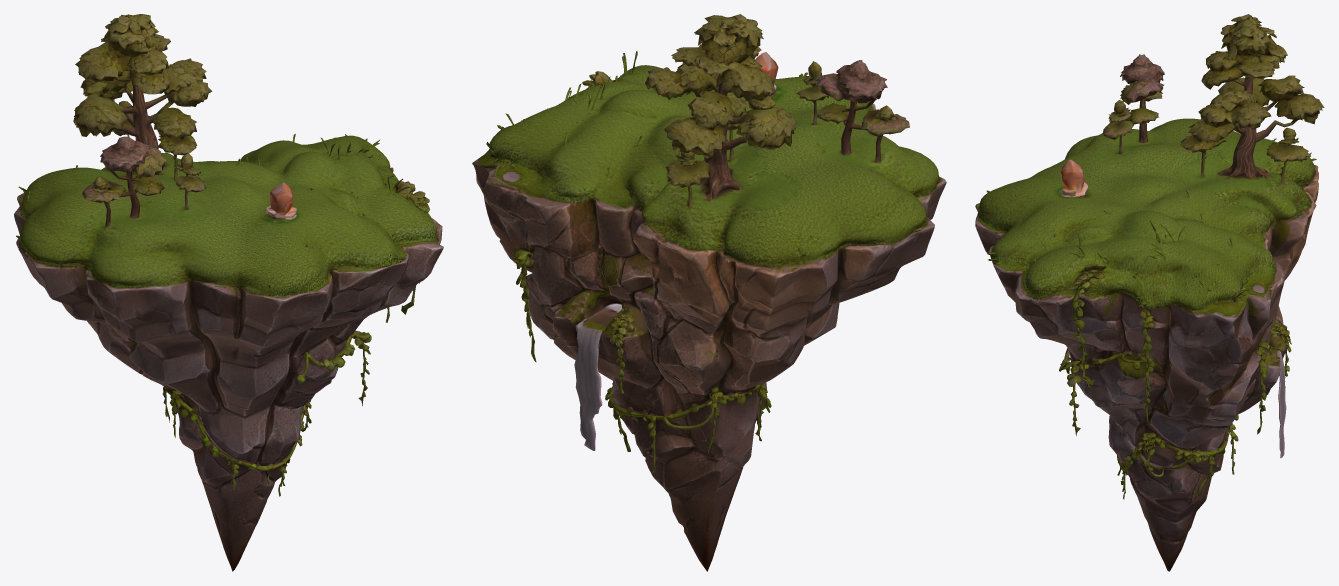
File: island-a.glb
3 views of the same model, side by side, from view 1: azimuth 30°, elevation 25°; view 2: azimuth 150°, elevation 25°; view 3: azimuth 270°, elevation 25° (orthographic). The views are drawn at different scales.
Visible parts, largest first — view 1: tripo_node_e2869004-f9de-4f15-8771-e0312fceeb38; view 2: tripo_node_e2869004-f9de-4f15-8771-e0312fceeb38; view 3: tripo_node_e2869004-f9de-4f15-8771-e0312fceeb38.
Part boxes in pixels (bbox=[...]): tripo_node_e2869004-f9de-4f15-8771-e0312fceeb38: bbox=[14, 14, 443, 571]; tripo_node_e2869004-f9de-4f15-8771-e0312fceeb38: bbox=[472, 14, 946, 571]; tripo_node_e2869004-f9de-4f15-8771-e0312fceeb38: bbox=[975, 14, 1324, 571].
Bounding box in the file's own units: 1.82 × 2.5 × 1.51.
1 material, 1 textured.
